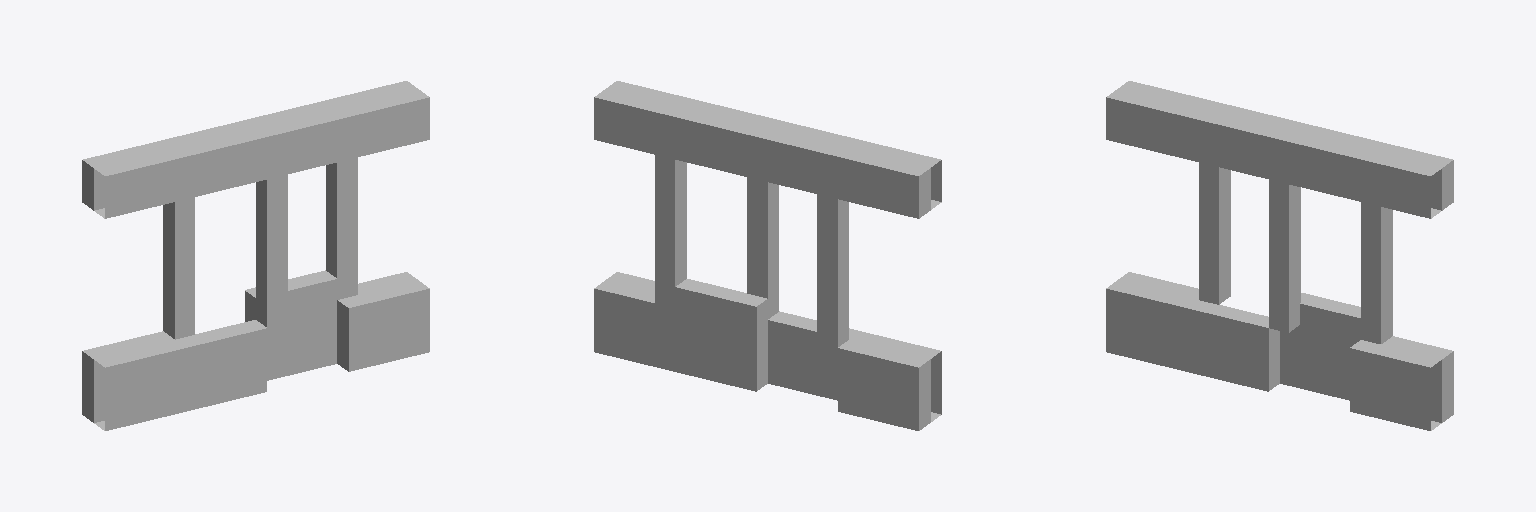
File: Colby3NoMat.obj
3 views of the same model, side by side, from view 1: azimuth 30°, elevation 25°; view 2: azimuth 150°, elevation 25°; view 3: azimuth 330°, elevation 25° (orthographic).
Visible parts, largest first — view 1: Plane.001_Plane.002, Plane; view 2: Plane, Plane.001_Plane.002; view 3: Plane.001_Plane.002, Plane.
Boxes of the visible parts, x1,y1,x2,y2 form: Plane.001_Plane.002: [94, 89, 429, 430]; Plane: [82, 81, 417, 422]; Plane: [594, 89, 930, 430]; Plane.001_Plane.002: [606, 81, 941, 421]; Plane.001_Plane.002: [1106, 89, 1441, 430]; Plane: [1118, 81, 1453, 422].
Bounding box in the file's own units: 16 × 12 × 1.96.